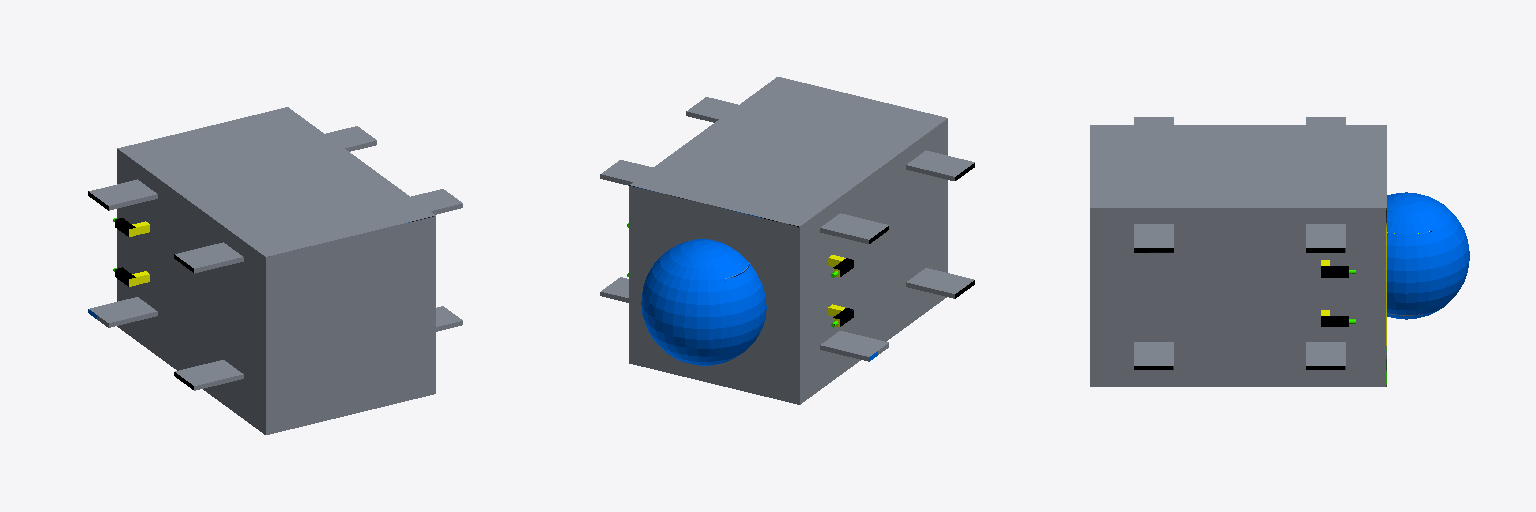
3 views of the same model, side by side, from view 1: azimuth 30°, elevation 25°; view 2: azimuth 150°, elevation 25°; view 3: azimuth 270°, elevation 25° (orthographic).
Visible parts, largest first — view 1: 球_球.001; view 2: 球_球.001; view 3: 球_球.001.
Boxes of the visible parts, x1,y1,x2,y2 form: 球_球.001: [88, 107, 462, 434]; 球_球.001: [600, 77, 974, 404]; 球_球.001: [1090, 117, 1469, 386].
Bounding box in the file's own units: 6.57 × 4.16 × 8.04.
1 materials, 1 textured.